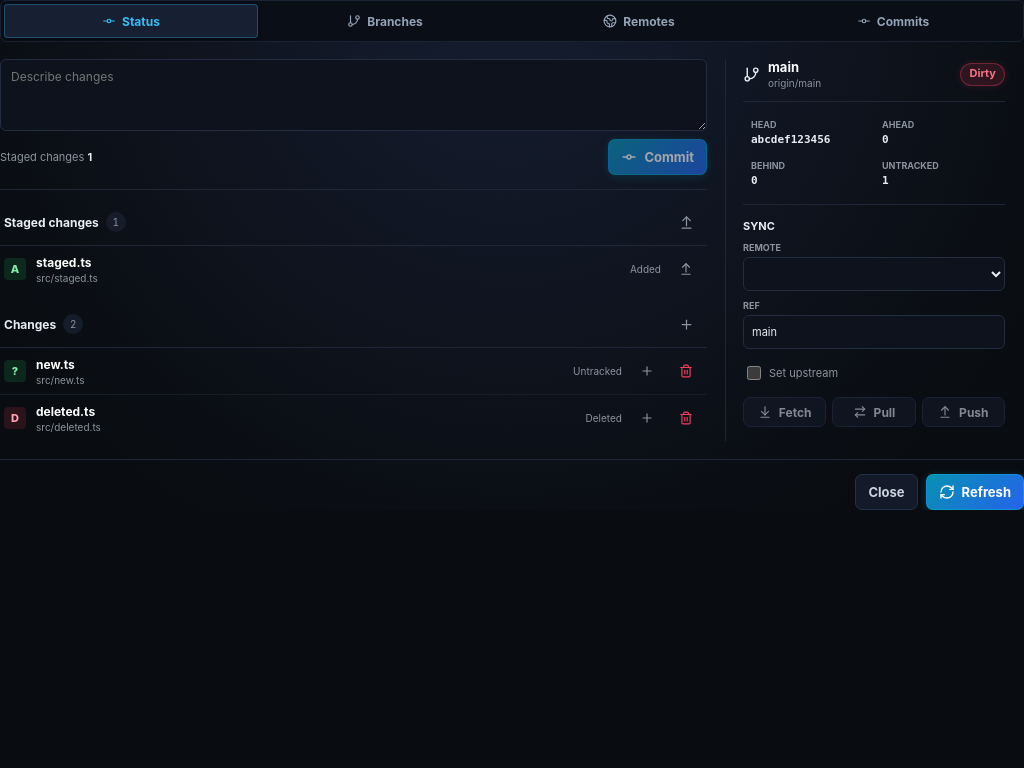
renders legacy null collections as empty states
Expected: the button "Fetch" is disabled, [743,397,826,427]
Click the tab "Branches". click: (385, 21)
box: [258,4,512,38]
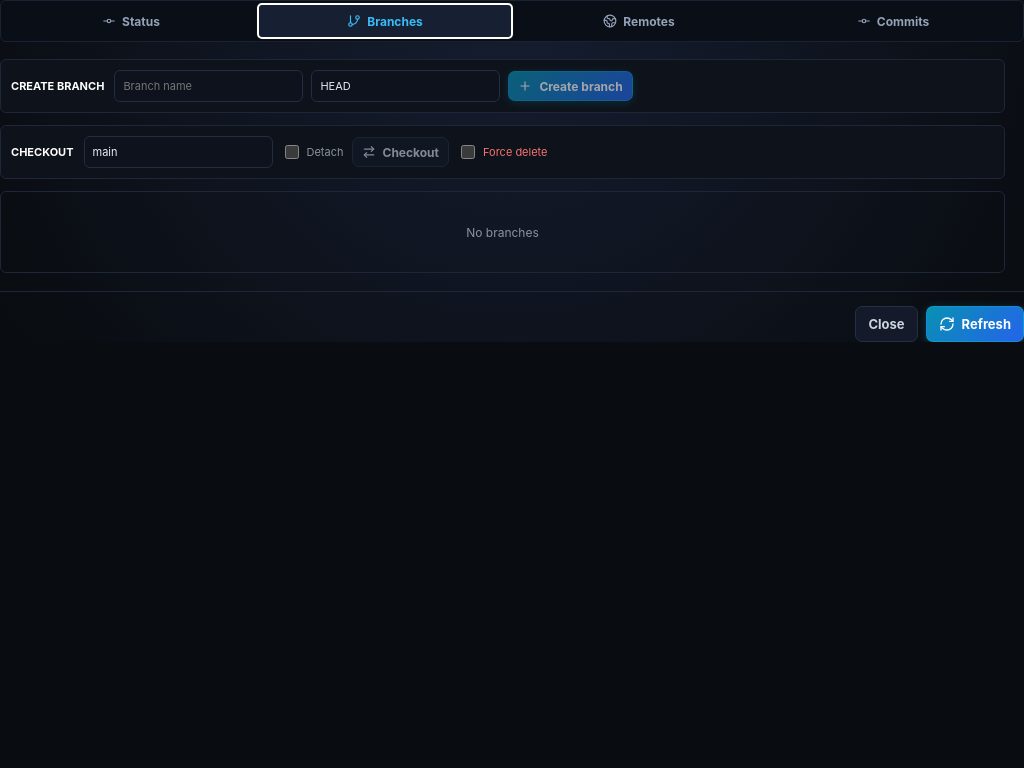
Result: the text "No branches" is shown at [466,224,539,240]
Click the tab "Remotes". click: (639, 21)
box: [512,4,766,38]
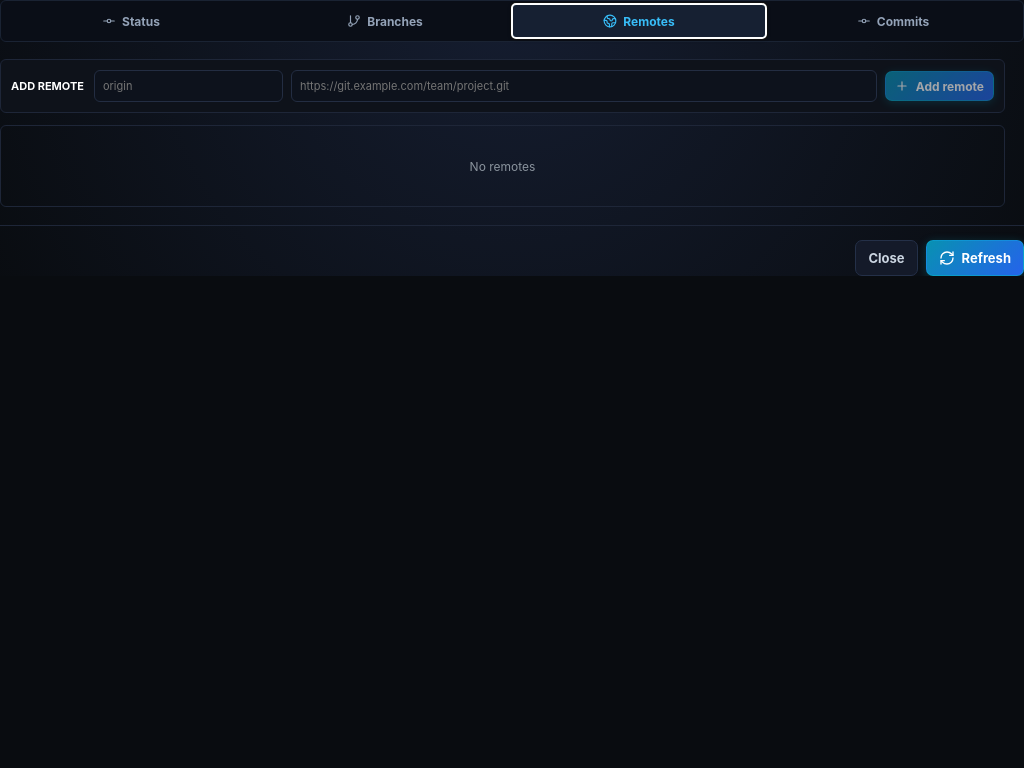
Result: the text "No remotes" is shown at [470,158,535,174]
Click the tab "Commits". click: (893, 21)
box: [766,4,1020,38]
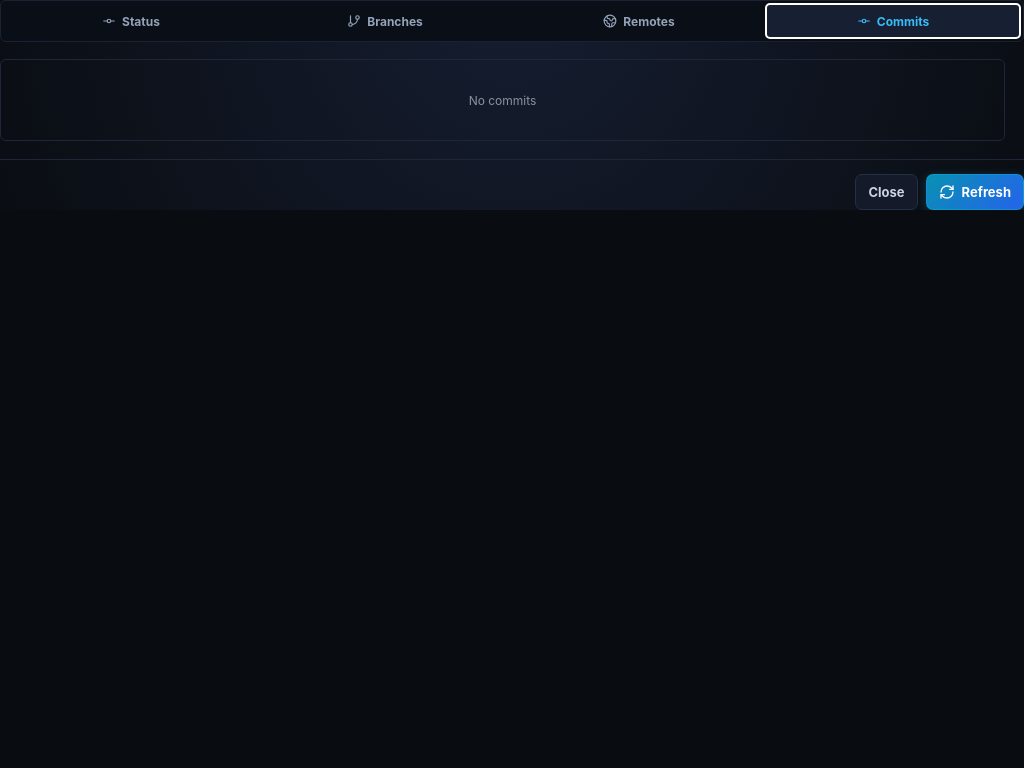
Expected: the panel is shown, [0,59,1023,141]
Result: the text "No commits" is shown at [469,92,536,108]
